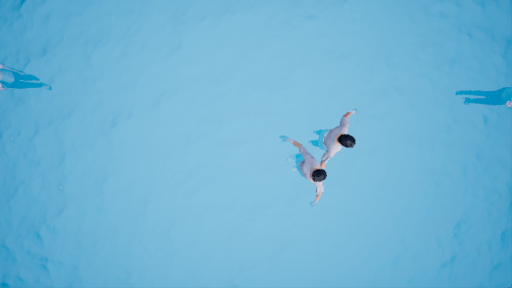person: (267, 136, 329, 207), (315, 111, 370, 168)
